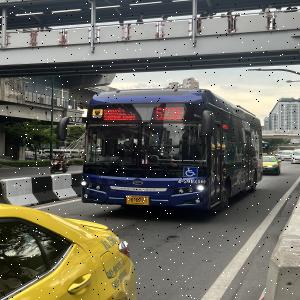Bus Line Number: (151, 105, 187, 121)
Bus Side Number: (175, 178, 207, 184)
Destination Sign: (99, 107, 138, 122)
TSB-Bus: (81, 87, 263, 211)
